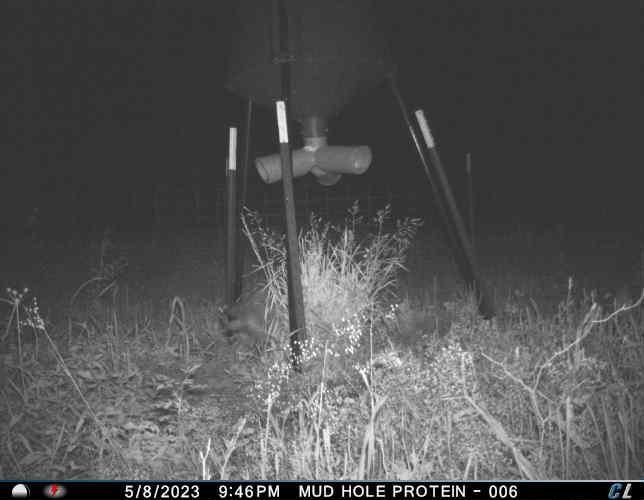Raccoon: (218, 287, 277, 346)
